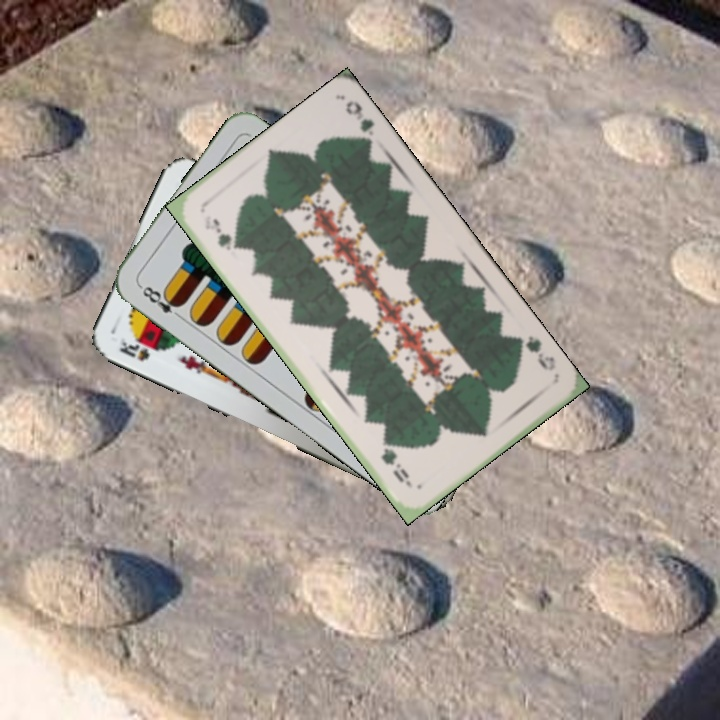E8: (135, 281, 185, 322)
G9: (513, 331, 559, 374), (208, 215, 239, 254)
SK: (115, 333, 152, 365)
